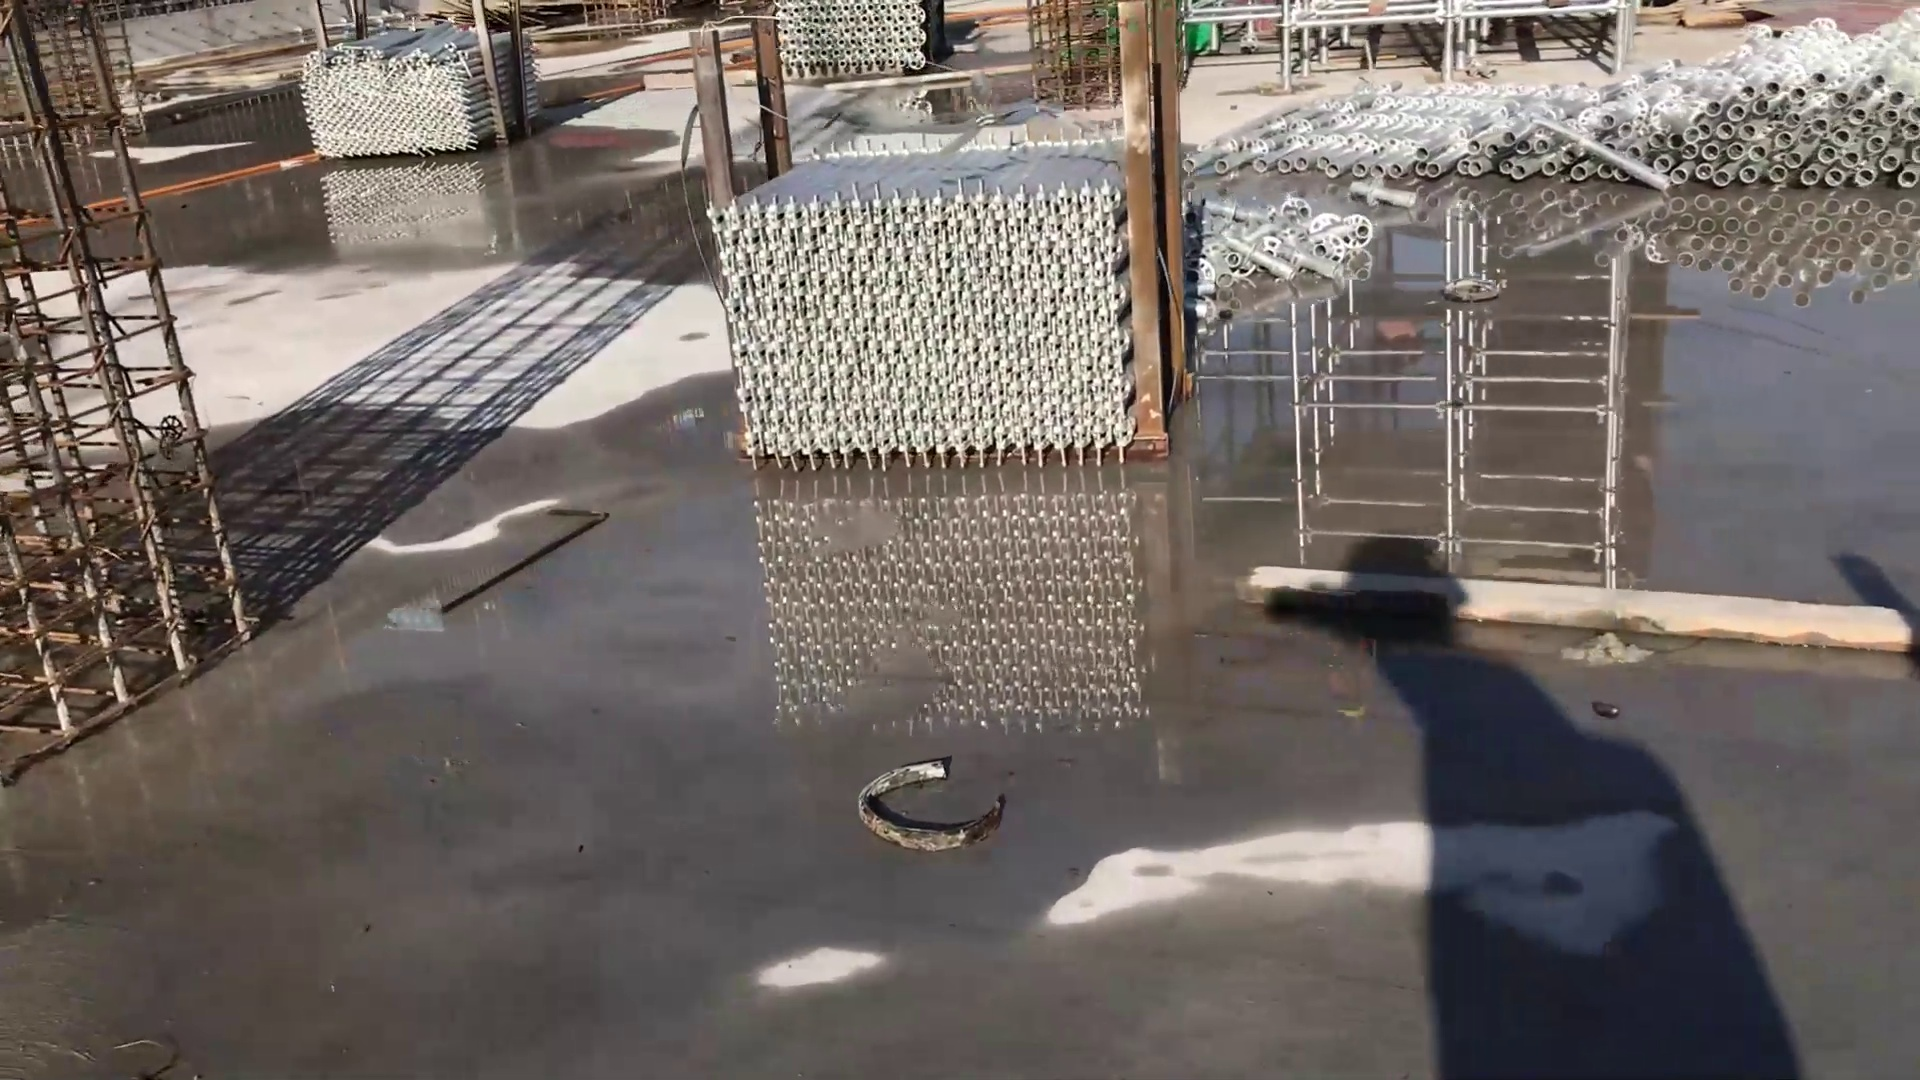scaffold: (694, 125, 1139, 485), (1175, 11, 1920, 211), (281, 7, 546, 179), (737, 4, 985, 98)
